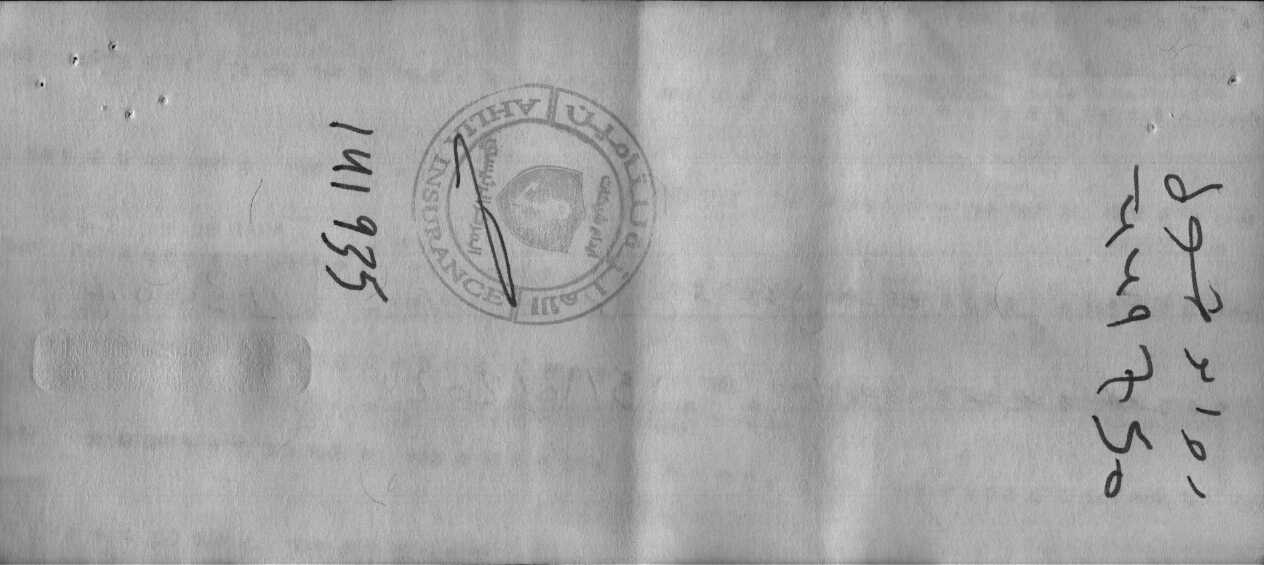stamp: (407, 80, 664, 327)
